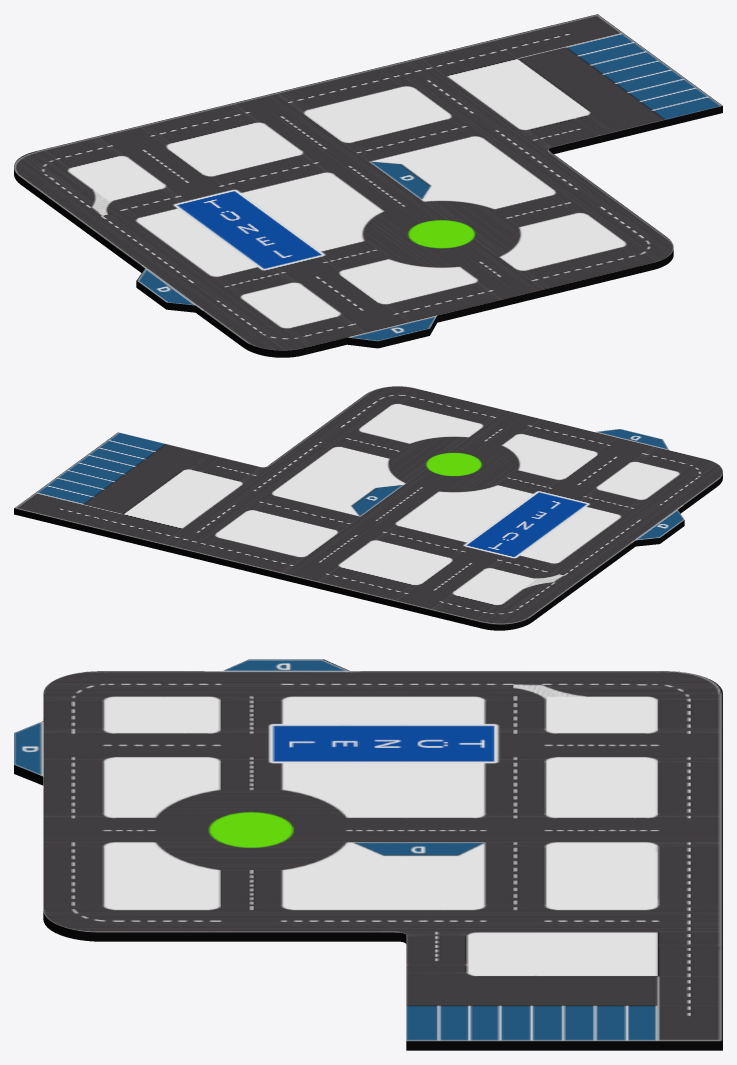
The model's file is pist.dae.
The picture shows the model from 3 angles, top to bottom: view 1: azimuth 30°, elevation 25°; view 2: azimuth 150°, elevation 25°; view 3: azimuth 270°, elevation 25°; orthographic projection. The views are drawn at different scales.
Parts seen in each view (by area): view 1: Plane; view 2: Plane; view 3: Plane.
Part boxes in pixels (left/top/right/bottom): Plane: left=14, top=14, right=722, bottom=357; Plane: left=14, top=386, right=722, bottom=630; Plane: left=14, top=659, right=722, bottom=1050.
Bounding box in the file's own units: 24.94 × 19.56 × 0.2759.
1 material, 1 textured.
